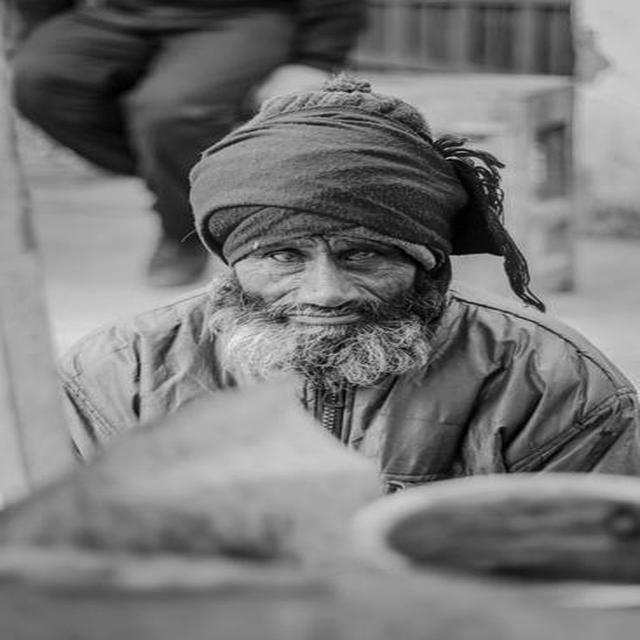Sadness: (235, 231, 416, 356)
